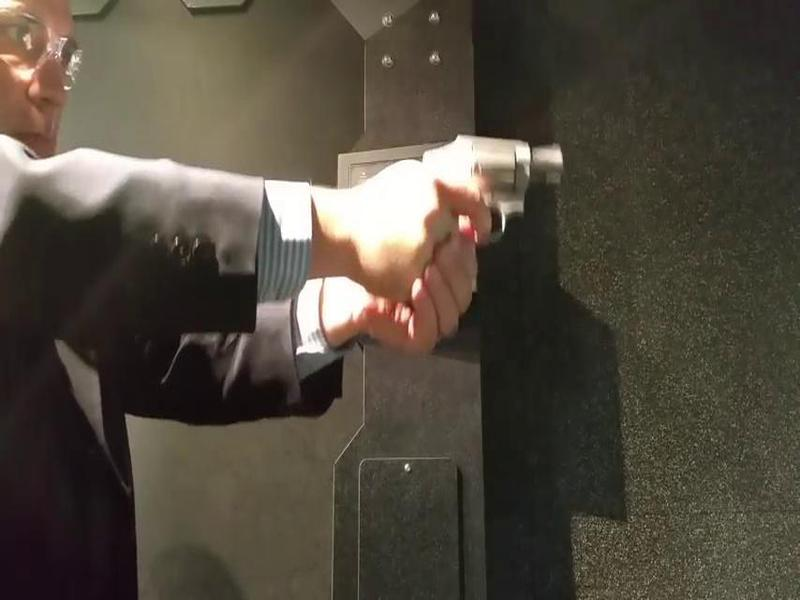Revolver: (401, 117, 574, 257)
